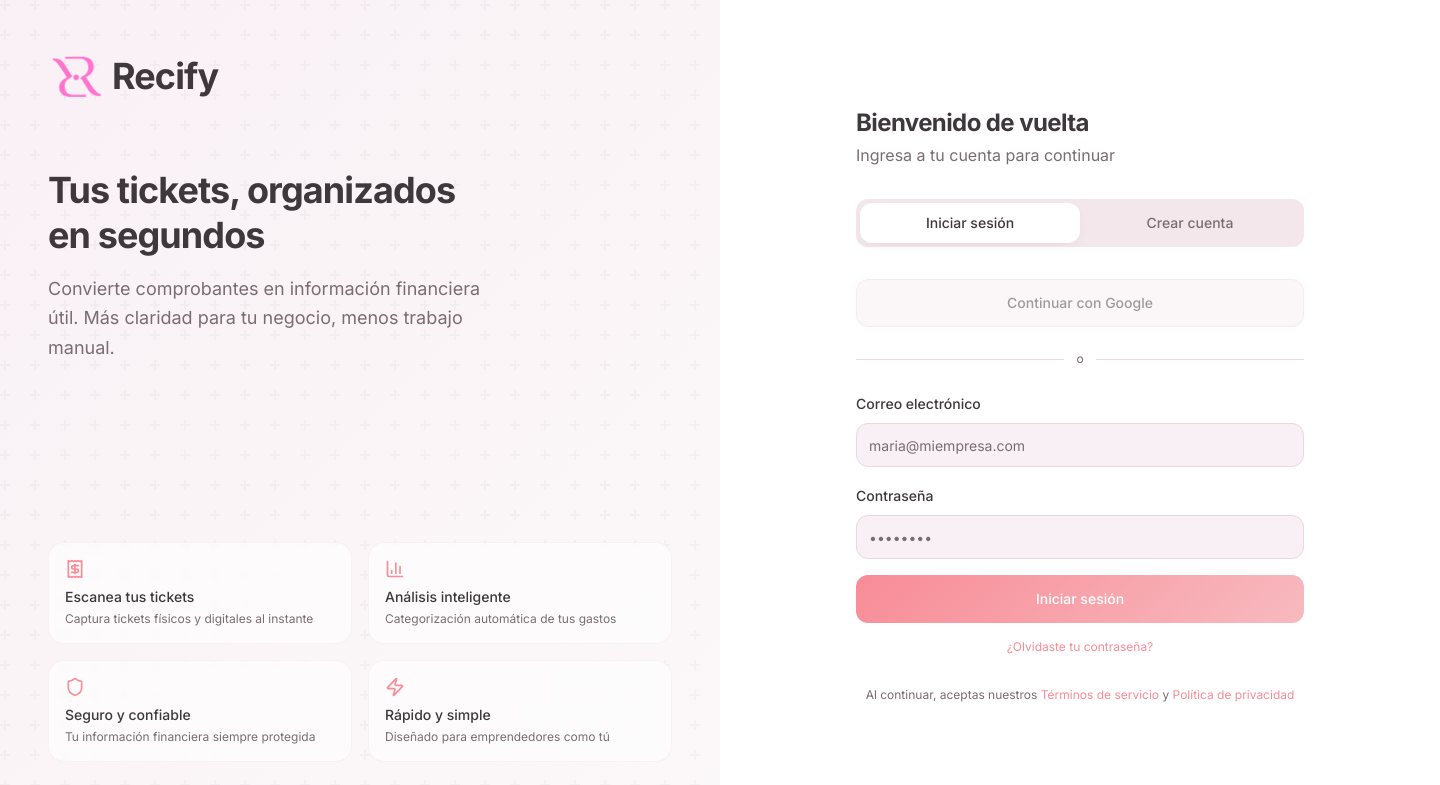
Test: Google login UI › does not offer Google signup on the register tab
Click the button "Crear cuenta": (1190, 223) [1080,203,1300,243]
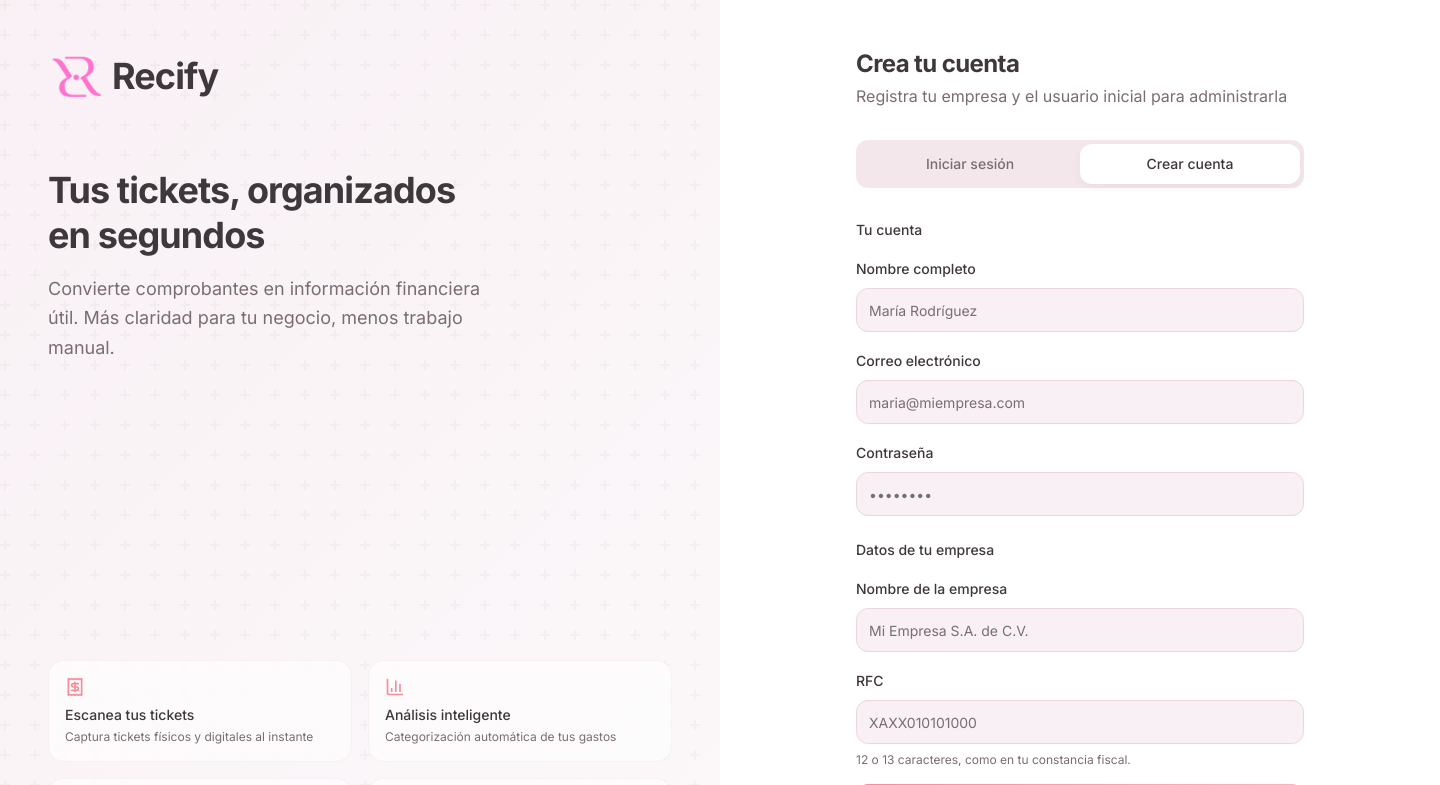
Expected: the button "Continuar con Google" is gone
Expected: the field with placeholder "María Rodríguez" is shown, [856,288,1304,332]
